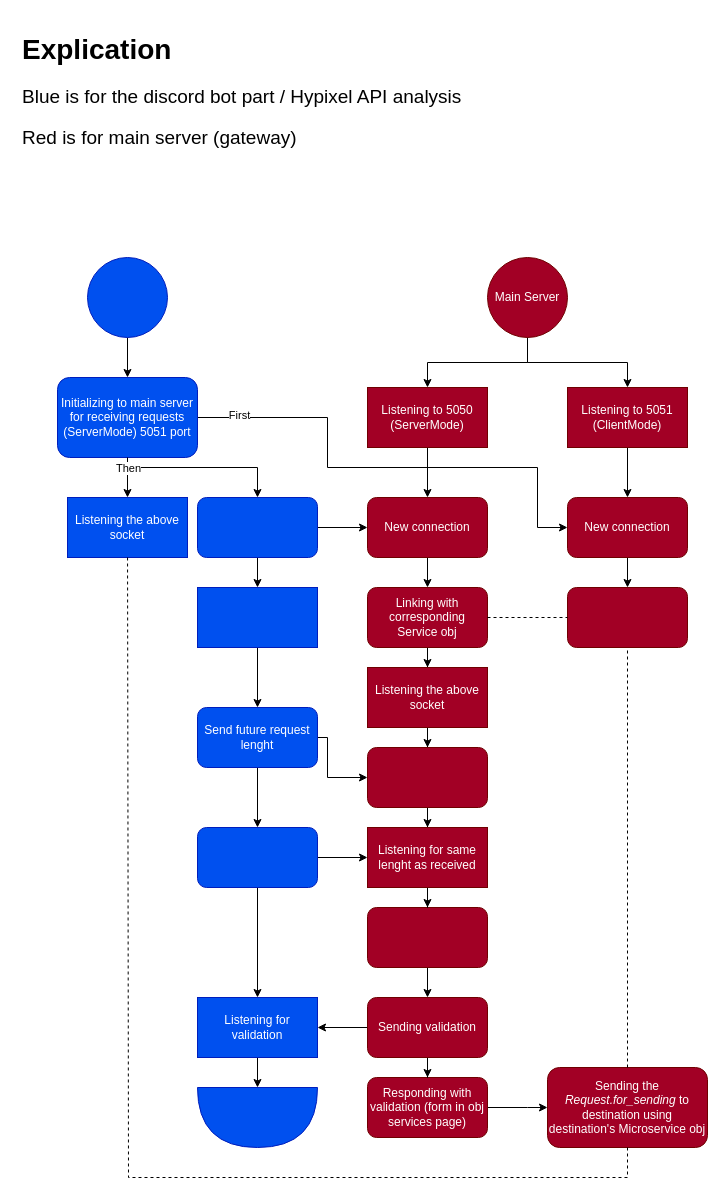
The diagram is 725 pixels wide and 1196 high, and some of its shapes have lost their labels. The box of each missing label's shape, as (x1, y1, x2, y2) in pixels:
Creating a Service object with this socket for send_socket: (566, 586, 688, 648)
Discord Bot or Hypixel Analysis: (86, 256, 168, 338)
Initializing Request obj: (366, 906, 488, 968)
Initializing to main server for sending (ClientMode) 5050 port: (196, 496, 318, 558)
Request received with lenght: (366, 746, 488, 808)
Request's end: (196, 1086, 318, 1148)
Saving this socket and using it when request must be send: (196, 586, 318, 648)
Sending request with an ID: (196, 826, 318, 888)
